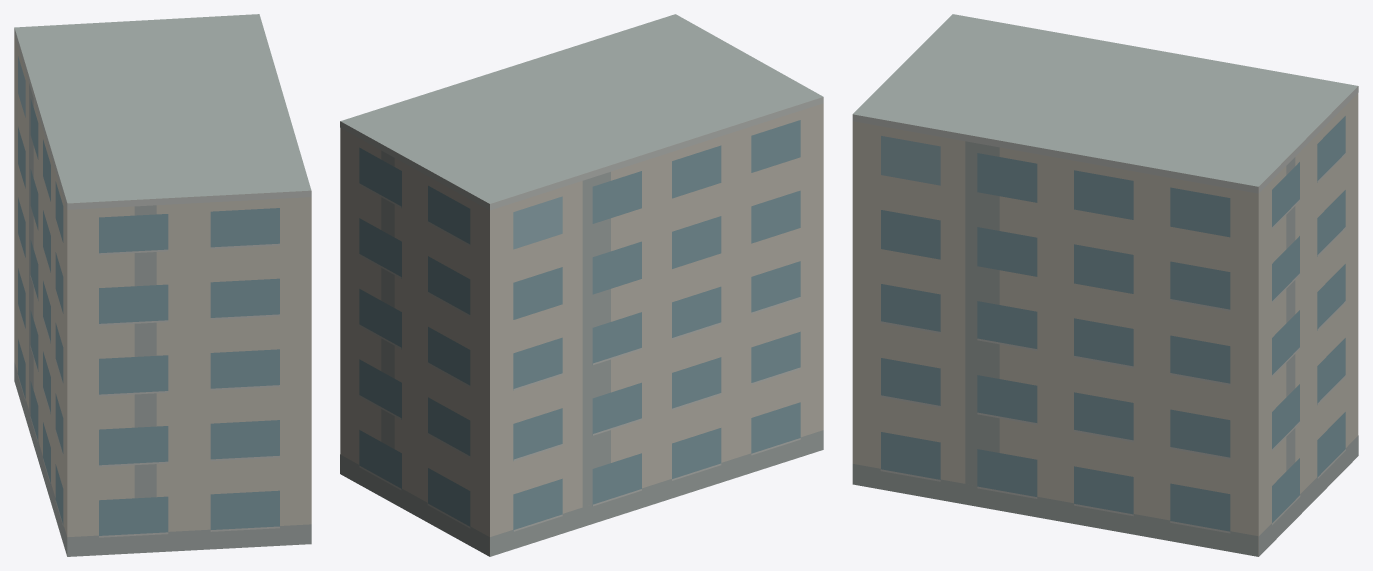
The model's file is survey-upis-32891021.glb.
The picture shows the model from 3 angles, left to right: view 1: azimuth 30°, elevation 25°; view 2: azimuth 150°, elevation 25°; view 3: azimuth 270°, elevation 25°; orthographic projection. The views are drawn at different scales.
Parts seen in each view (by area): view 1: survey-upis-32891021.tmp; view 2: survey-upis-32891021.tmp; view 3: survey-upis-32891021.tmp.
Part boxes in pixels (x1,y1,x2,y2): survey-upis-32891021.tmp: (14,14,311,556); survey-upis-32891021.tmp: (340,14,823,556); survey-upis-32891021.tmp: (852,14,1358,556).
Size of the model in its own units: 13.23 by 13.2 by 16.36.
